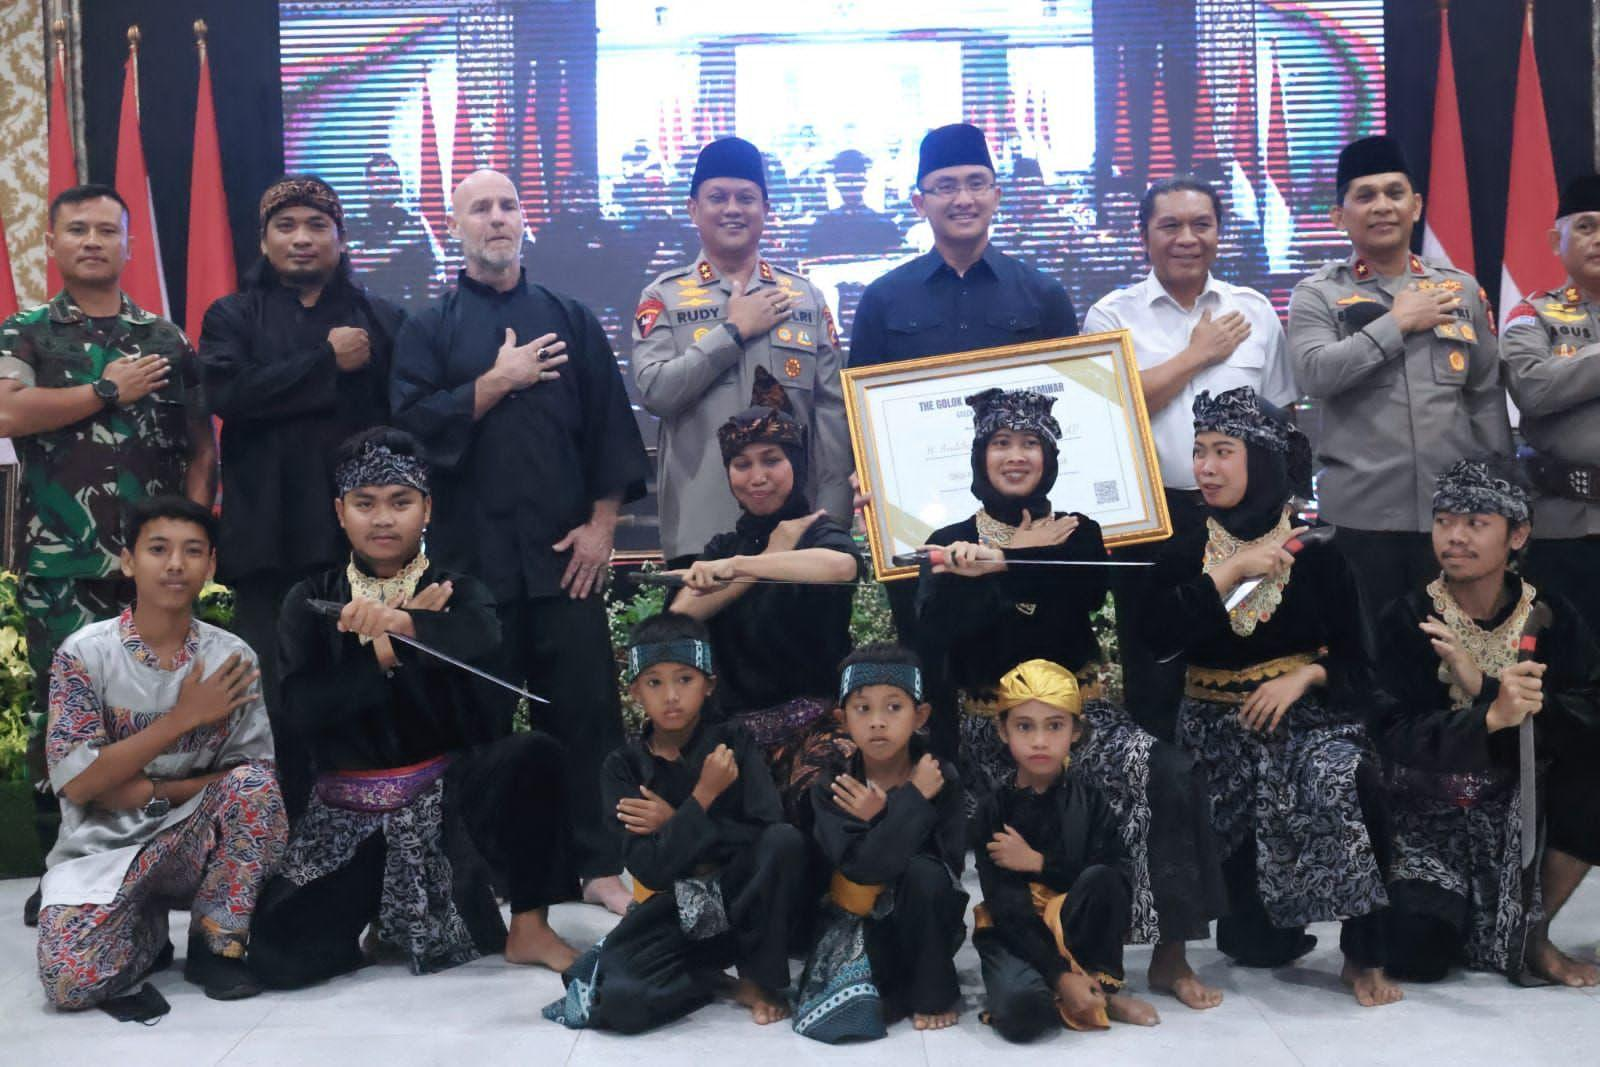facao: (307, 573, 560, 720), (1145, 524, 1343, 679), (875, 526, 1177, 579), (1510, 611, 1550, 874)
